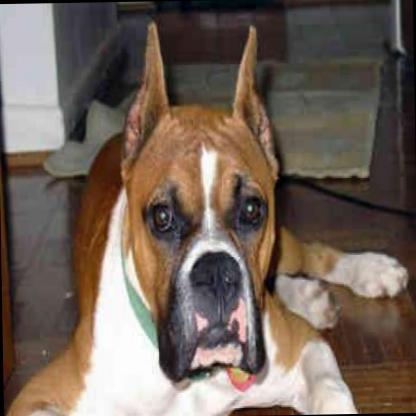boxer: (0, 15, 409, 416)
